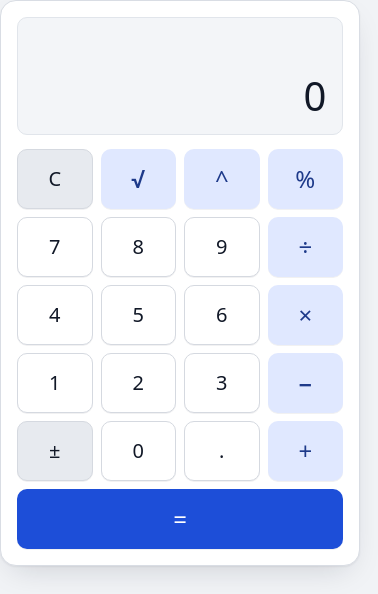
Test: Calculator › clearing › dismisses a validation message
Click the button "6": (222, 315) [184,285,260,345]
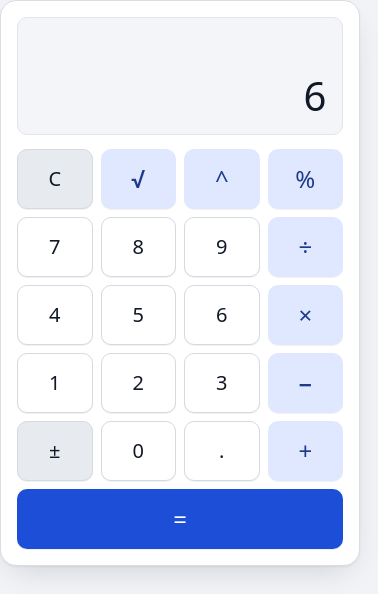
Click the button named "Equals": (180, 519) [17,489,343,549]
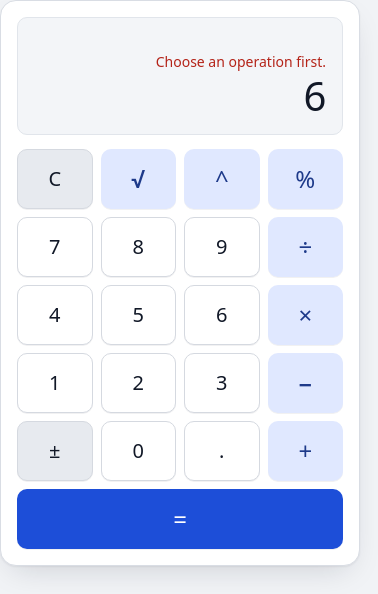
Click the button named "Clear": (55, 179) [17,149,92,209]
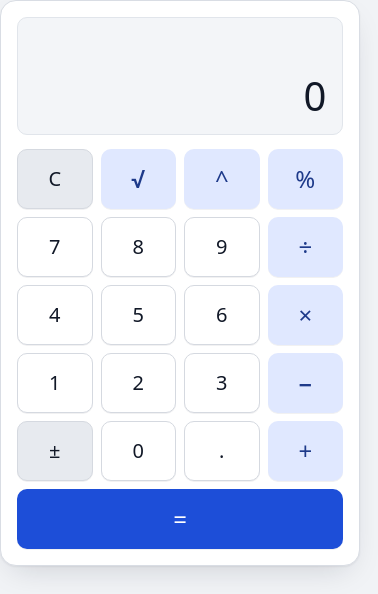
Expected: the message "Choose an operation first." is gone
